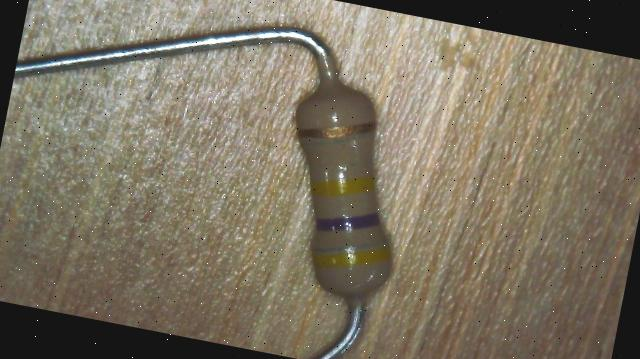gold: (297, 108, 377, 149)
resistor: (275, 65, 414, 314)
violet: (314, 200, 382, 241)
yellow: (314, 234, 392, 278), (310, 164, 376, 204)
